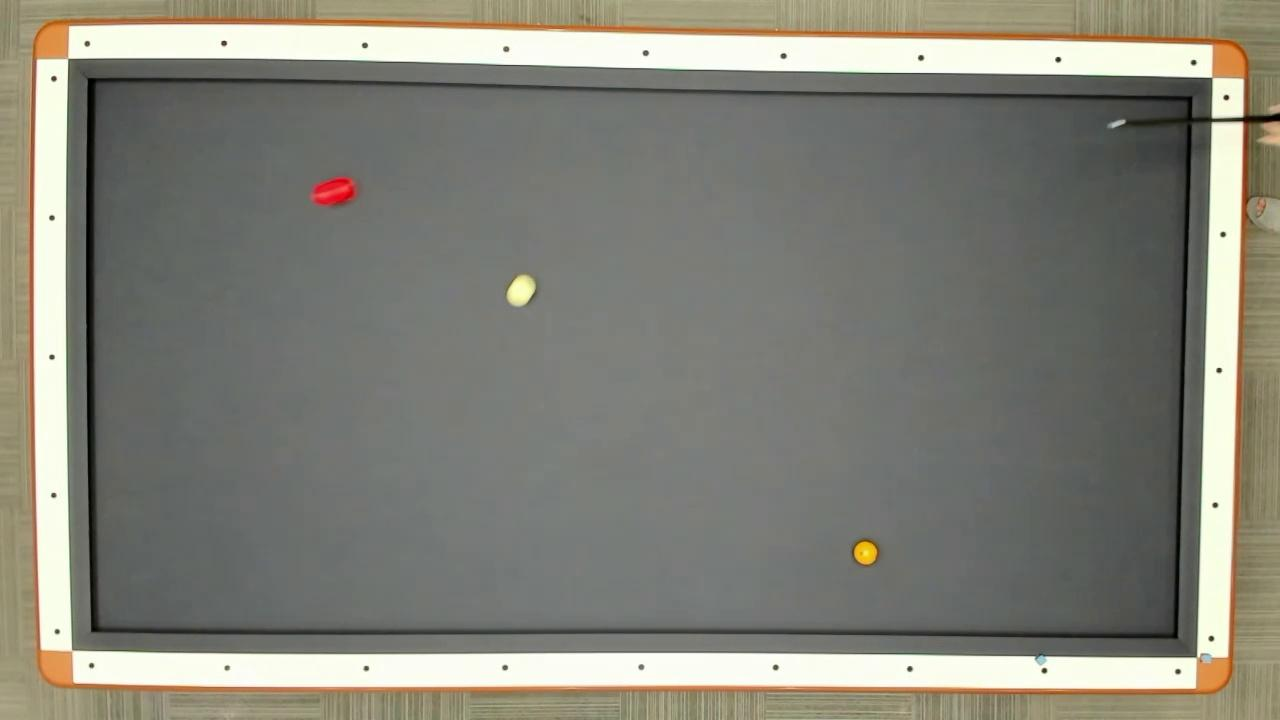Red: (309, 176, 357, 210)
White: (504, 272, 538, 308)
Yellow: (851, 538, 879, 567)
